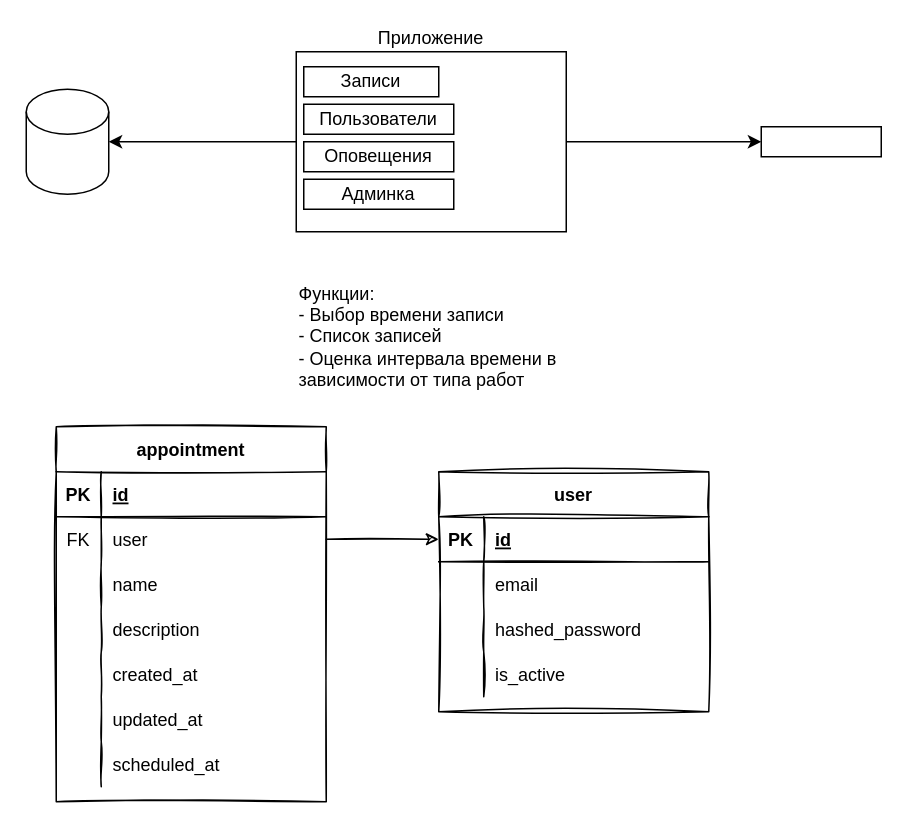
The diagram is 908 pixels wide and 828 high, and some of its shapes have lost their labels. The centre of each missing label's shape, as x and y in pixels:
"БД" belongs at (67,141).
"Интерфейс" belongs at (820,141).
